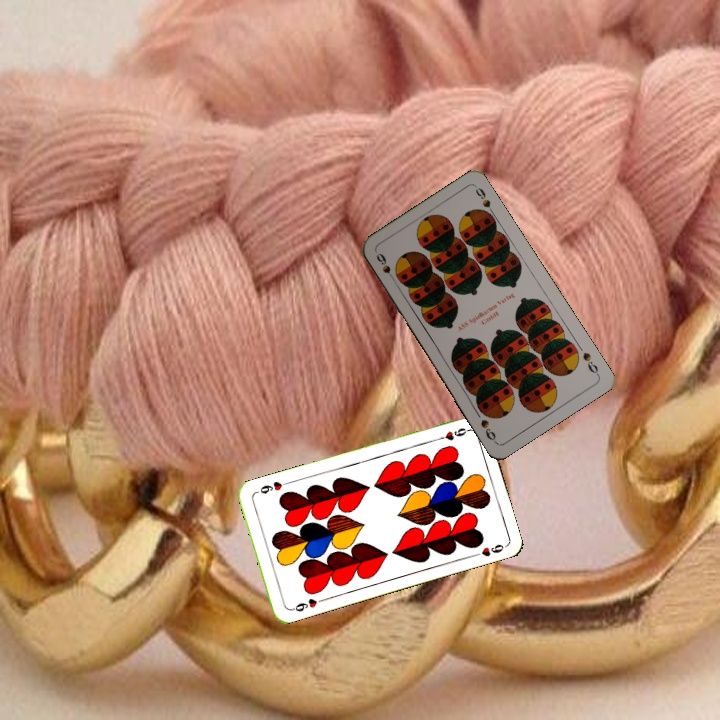H9: (286, 594, 326, 614), (433, 424, 472, 443)
S9: (372, 249, 399, 285), (578, 348, 602, 378)
